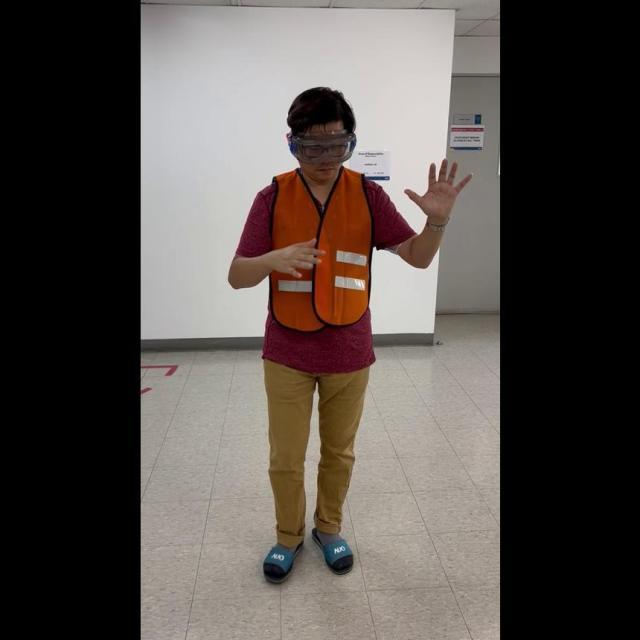bare_hand: (402, 153, 473, 224), (262, 234, 324, 277)
